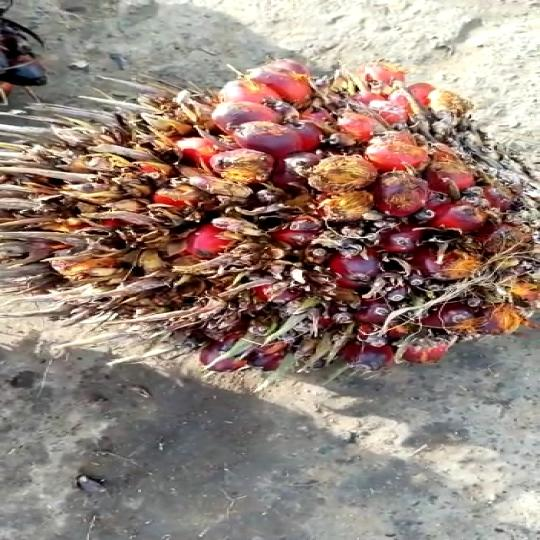terlalu masak: (0, 34, 540, 388)
